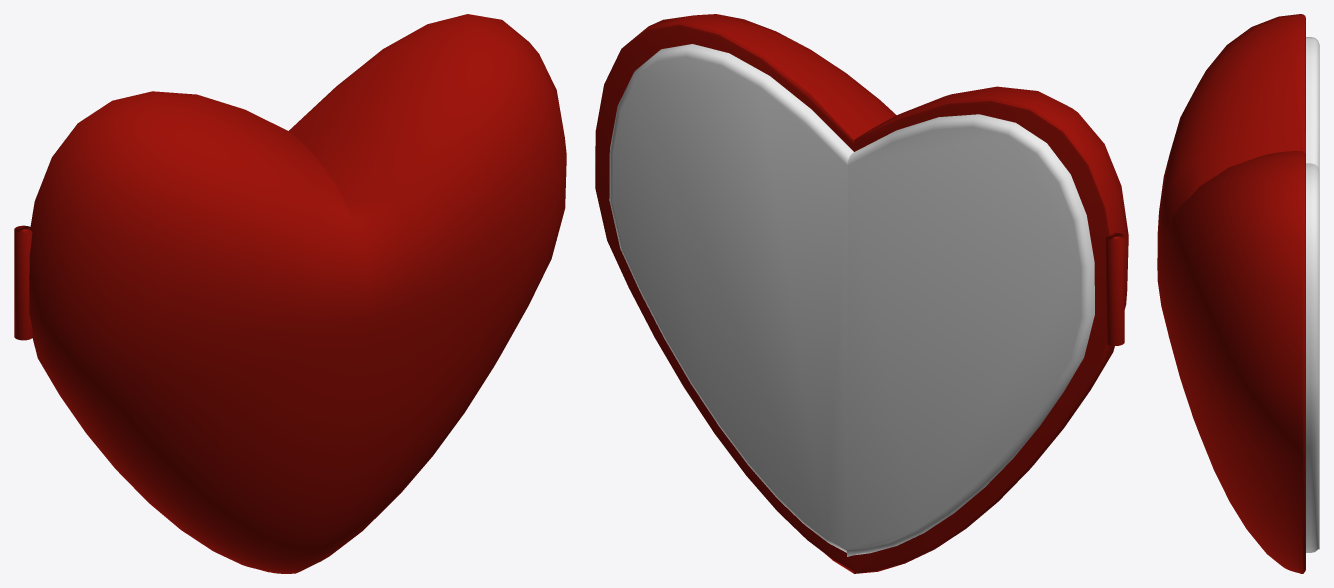
Rendered from locket.glb.
The picture shows the model from 3 angles, left to right: view 1: azimuth 30°, elevation 25°; view 2: azimuth 150°, elevation 25°; view 3: azimuth 270°, elevation 25°; orthographic projection. The views are drawn at different scales.
Parts seen in each view (by area): view 1: SurfSphere, Cylinder; view 2: SurfSphere.001, SurfSphere, Cylinder; view 3: SurfSphere, SurfSphere.001.
Boxes of the visible parts, bbox=[...] form: SurfSphere: bbox=[29, 14, 566, 573]; Cylinder: bbox=[14, 225, 32, 340]; SurfSphere.001: bbox=[609, 44, 1094, 556]; SurfSphere: bbox=[595, 14, 1128, 573]; Cylinder: bbox=[1106, 233, 1124, 345]; SurfSphere: bbox=[1157, 14, 1305, 573]; SurfSphere.001: bbox=[1306, 37, 1319, 552].
Size of the model in its own units: 4.69 by 4.3 by 1.33.
